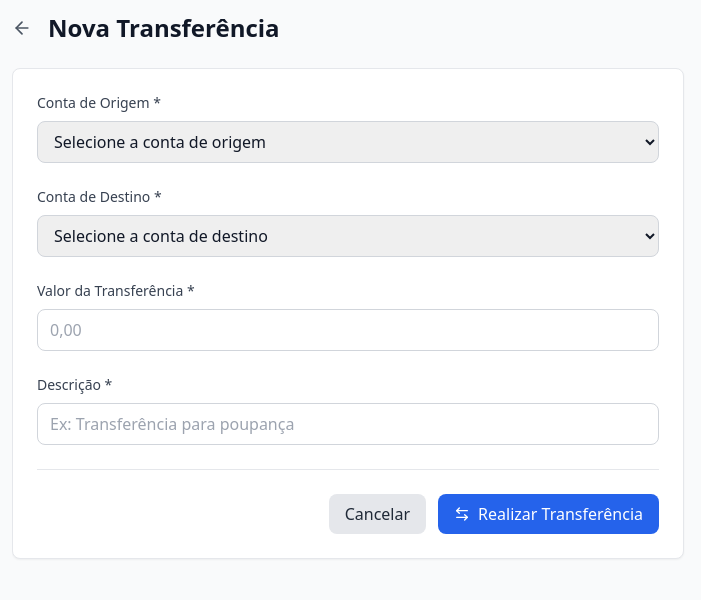
Test: TransferForm › deve mostrar saldo atual ao selecionar conta de destino
Select "Conta Poupança (Poupança) - R$ 10.000,00" in the dropdown labelled "Conta de Destino *". click: (348, 236)
box: top-left (37, 215), bottom-right (659, 257)
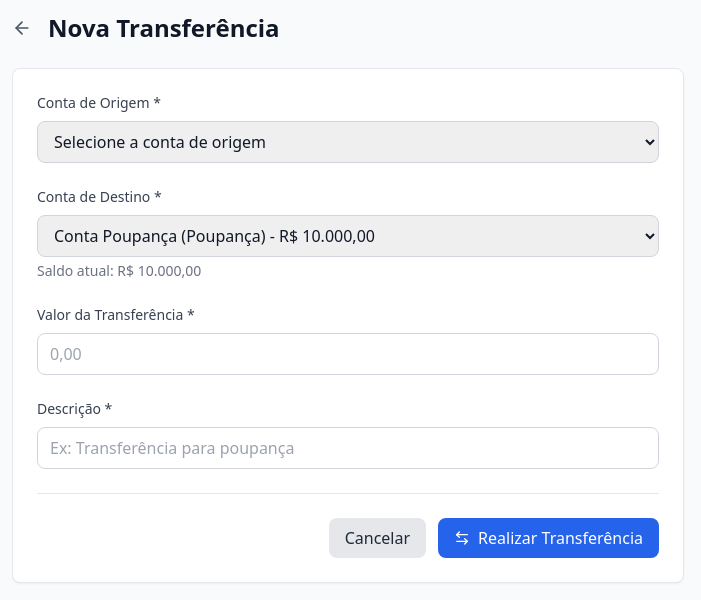
Expected: the text "Saldo atual: R$ 10.000,00" is shown, top-left (37, 261), bottom-right (201, 280)
